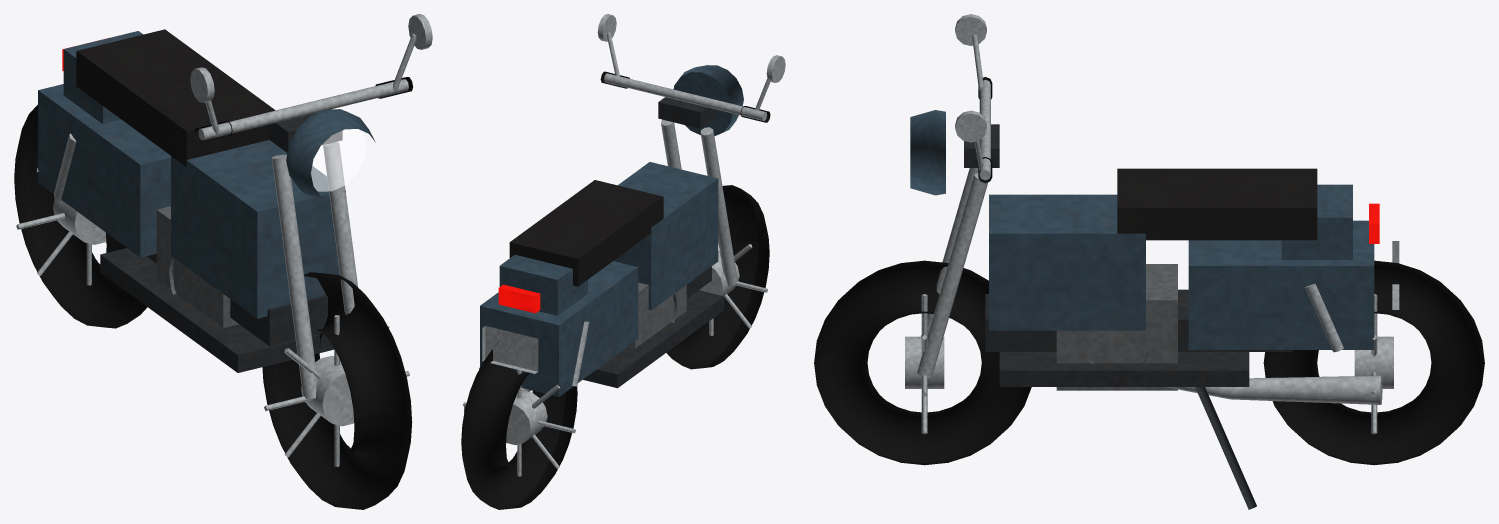
The model's file is vehicle.motorcycle.bebek.glb.
The picture shows the model from 3 angles, left to right: view 1: azimuth 30°, elevation 25°; view 2: azimuth 150°, elevation 25°; view 3: azimuth 270°, elevation 25°; orthographic projection. The views are drawn at different scales.
Parts seen in each view (by area): view 1: vehicle.motorcycle.bebek; view 2: vehicle.motorcycle.bebek; view 3: vehicle.motorcycle.bebek.
Boxes of the visible parts, x1,y1,x2,y2 form: vehicle.motorcycle.bebek: (14,14,432,509); vehicle.motorcycle.bebek: (461,14,785,509); vehicle.motorcycle.bebek: (814,14,1484,509).
Bounding box in the file's own units: 0.6819 × 1.24 × 1.88.
Materials: 8 (8 with a texture image).
